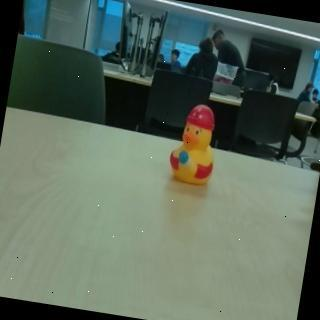duck_specialty: (165, 99, 226, 190)
